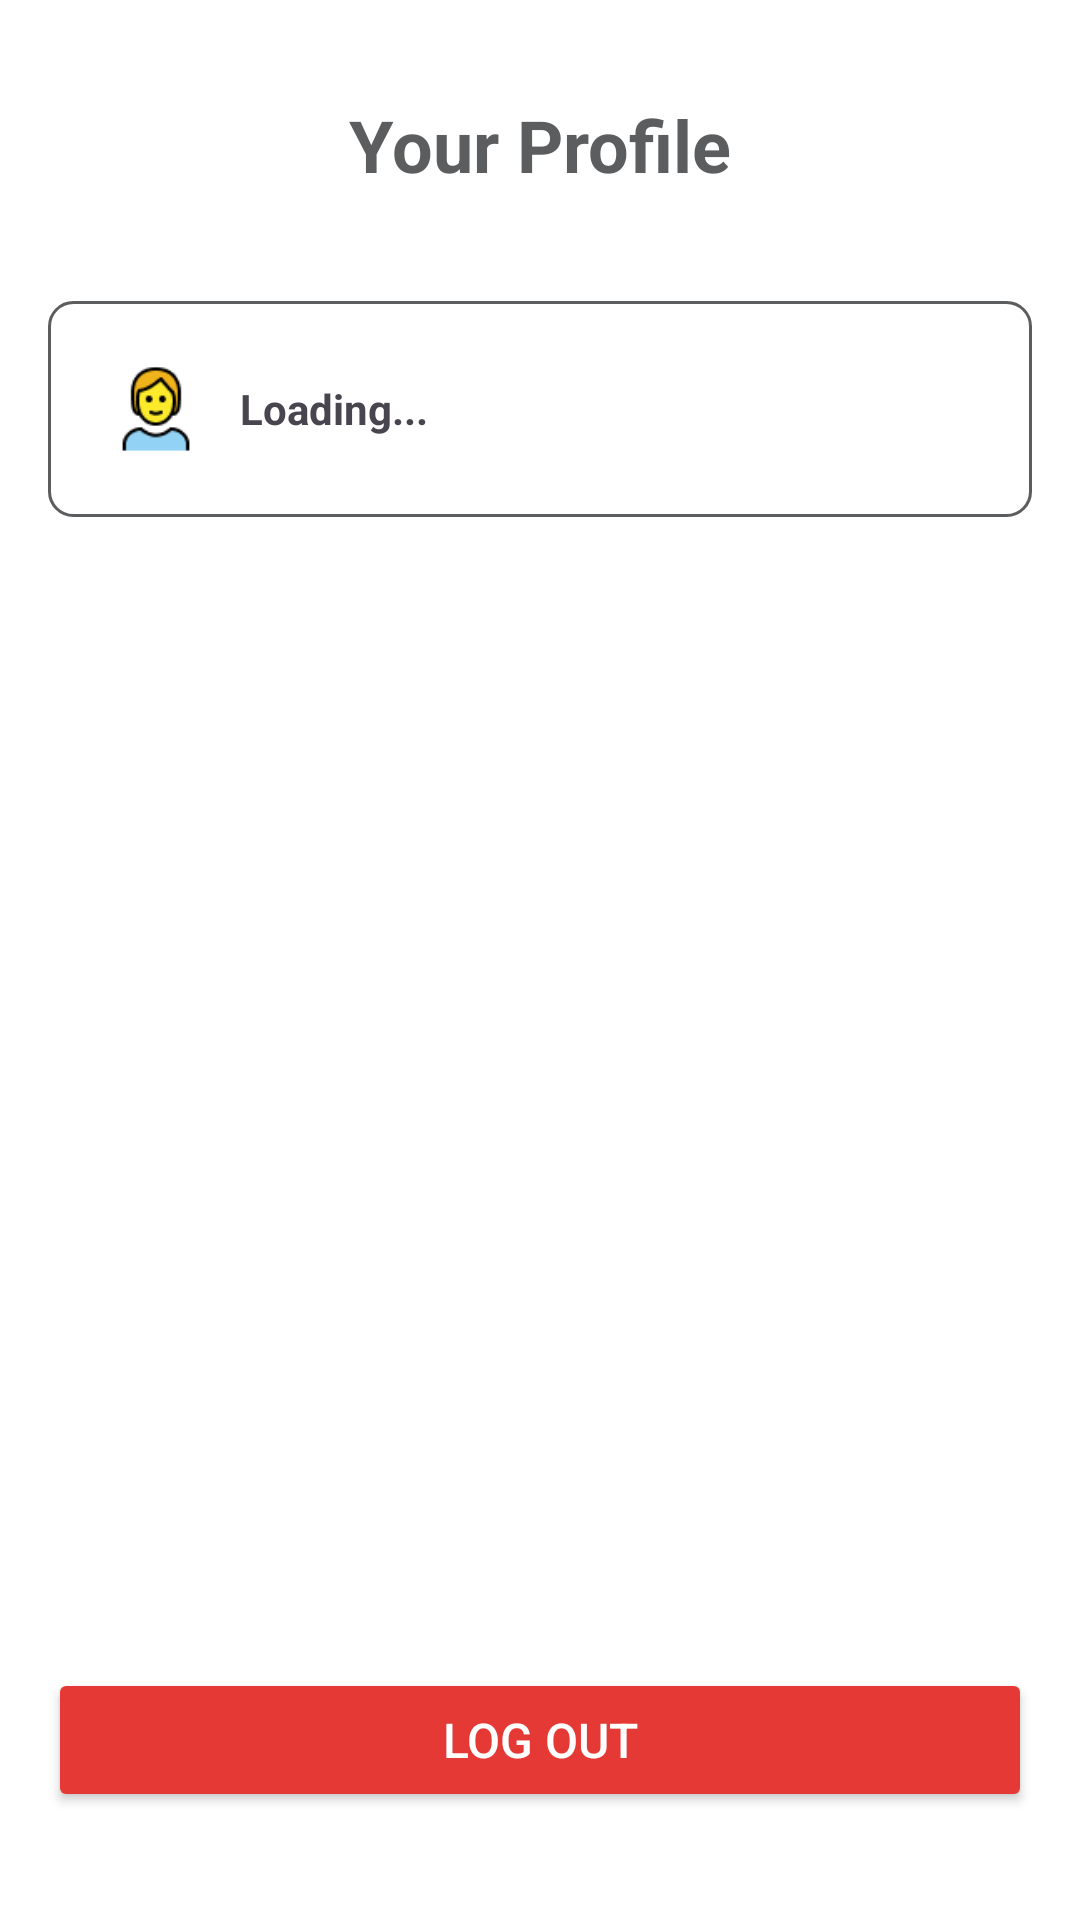

Named icons in this screenshot (1080px x 1920px) and their centers, point (x, y):
profile person: point (156, 409)
